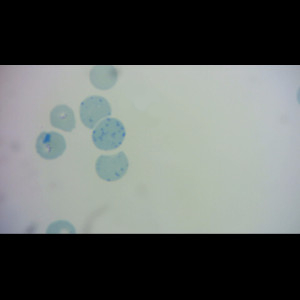aggregate reticulocyte: (91, 117, 128, 151), (94, 151, 130, 183)
erythrocyte: (34, 130, 67, 161), (48, 104, 78, 134), (88, 65, 121, 92)
punctate reticulocyte: (79, 94, 113, 130)
